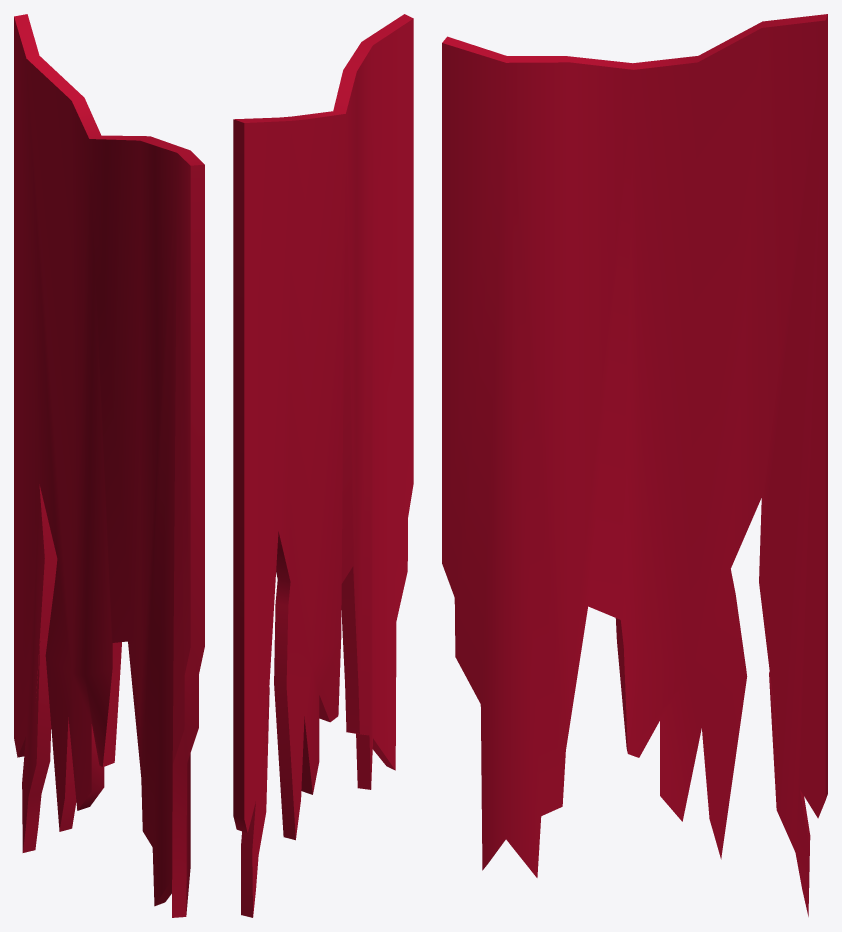
Rendered from Banner_1.fbx.
The picture shows the model from 3 angles, left to right: view 1: azimuth 30°, elevation 25°; view 2: azimuth 150°, elevation 25°; view 3: azimuth 270°, elevation 25°; orthographic projection. The views are drawn at different scales.
Visible parts, largest first — view 1: Banner1; view 2: Banner1; view 3: Banner1.
Boxes of the visible parts, left/top/right/bottom form: Banner1: left=14, top=14, right=204, bottom=917; Banner1: left=233, top=14, right=413, bottom=917; Banner1: left=442, top=14, right=827, bottom=916.
Size of the model in its own units: 10.76 by 188 by 73.26.
